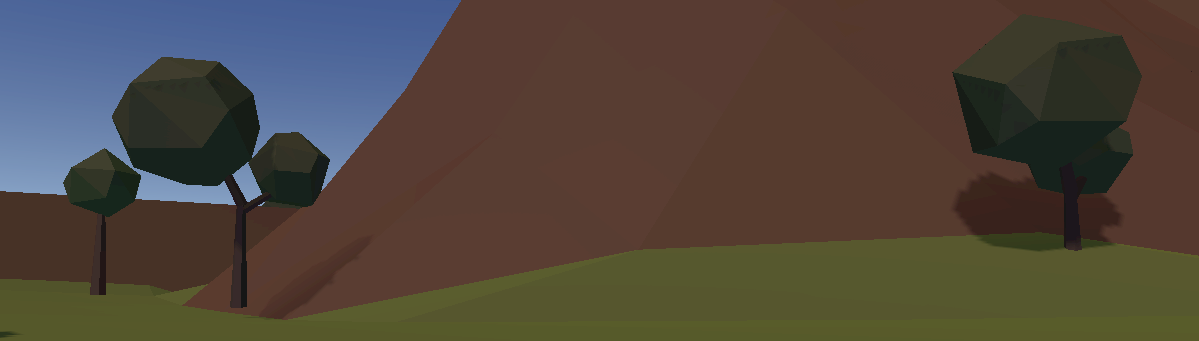tree: (111, 57, 330, 311), (949, 12, 1135, 249), (63, 149, 142, 292)
